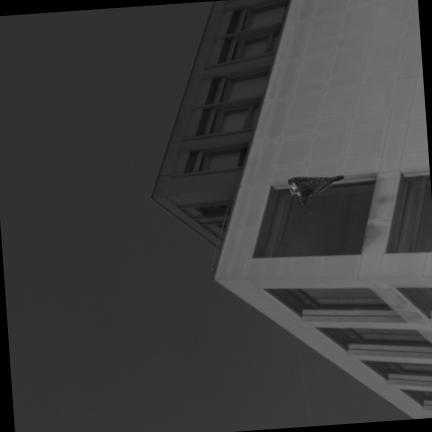Shahed: (288, 176, 343, 204)
